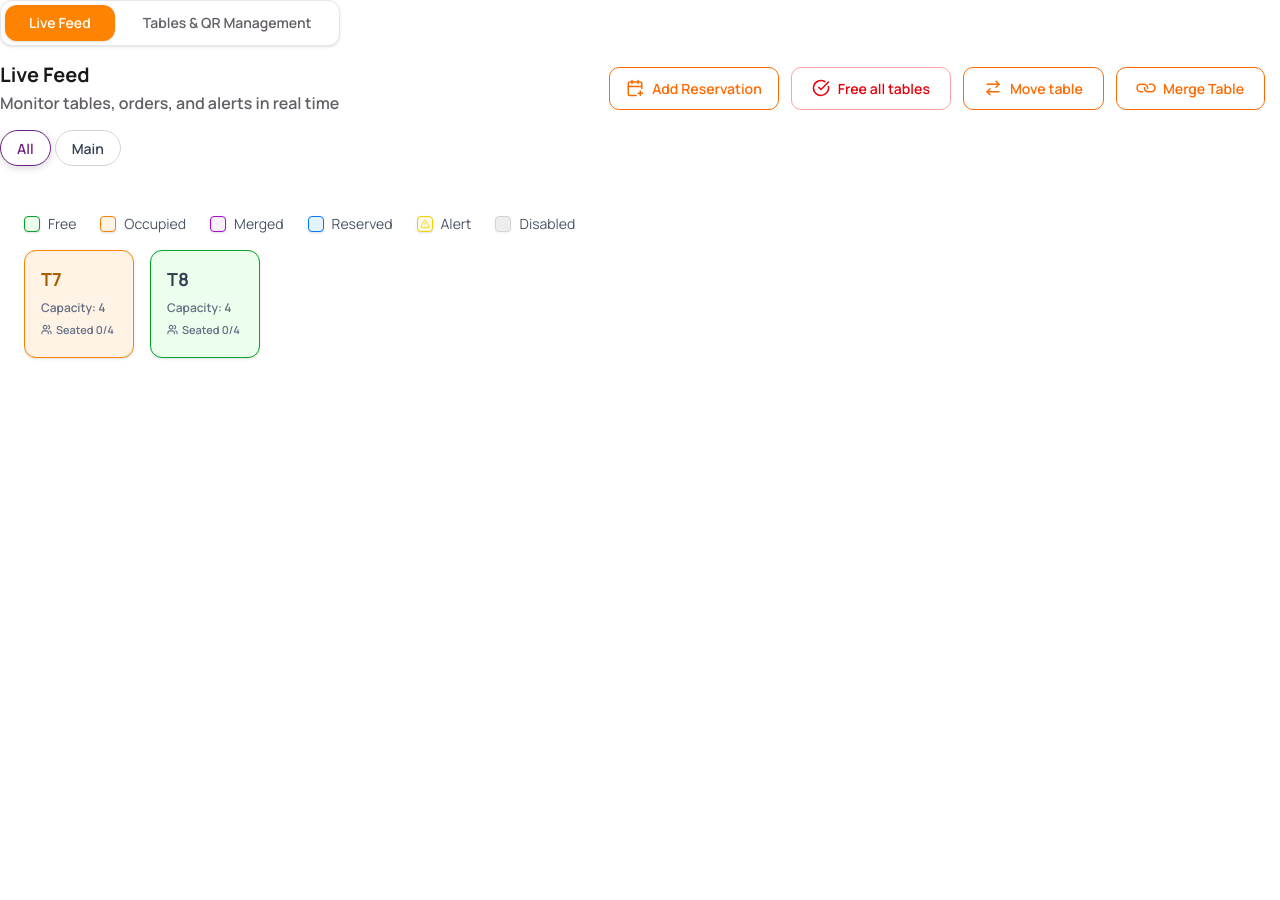
Test: TablesDashboard — Move table › button shown for admin and opens the modal
This screenshot has width=1280, height=900.
Click the button "Move table". click: {"x": 1033, "y": 88}
box: [963,66,1104,110]
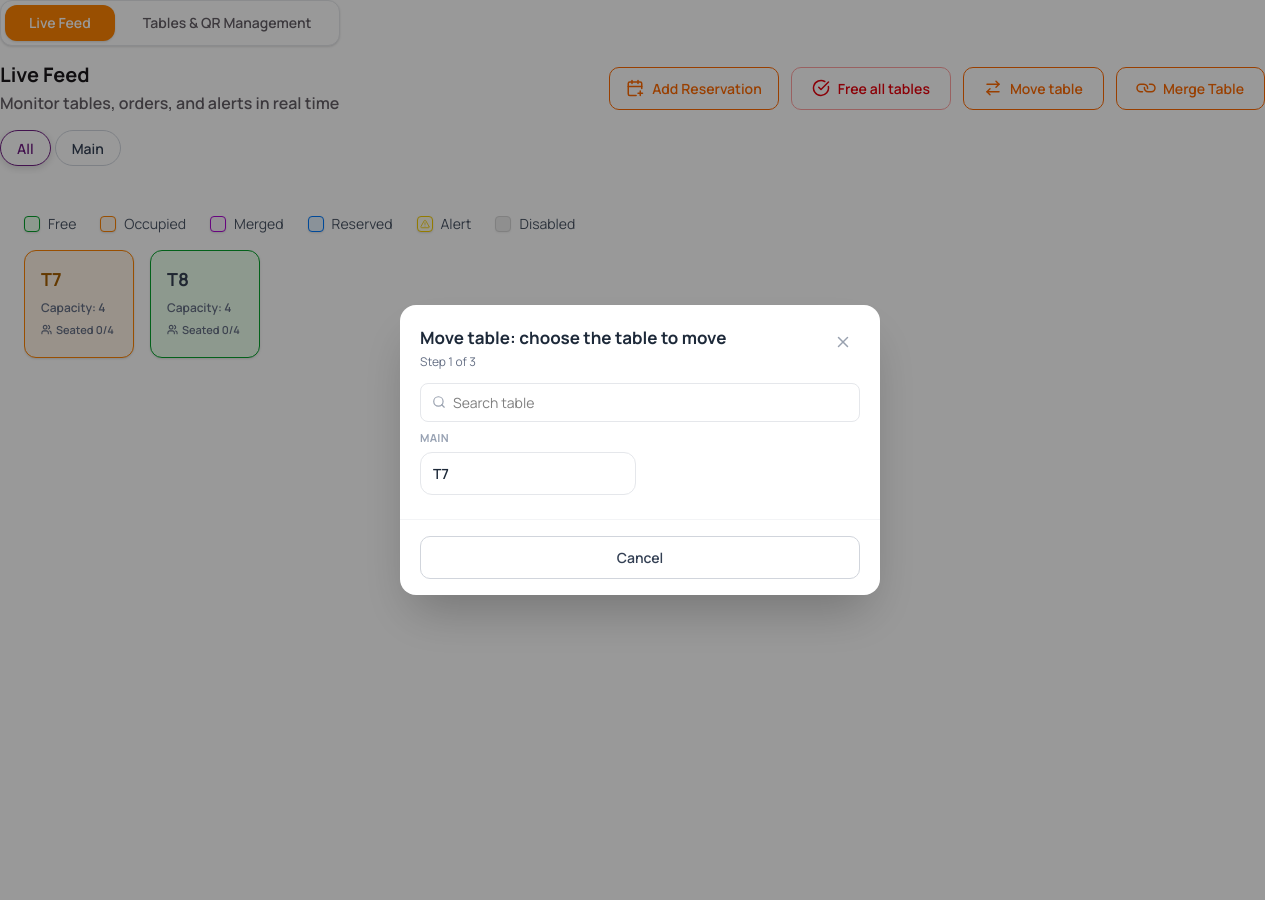
Expected: the dialog "choose the table to move" is shown, [400,305,880,595]
